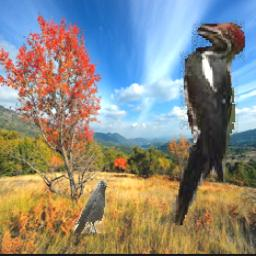Crow: (72, 180, 107, 233)
Woodpecker: (173, 22, 245, 226)
